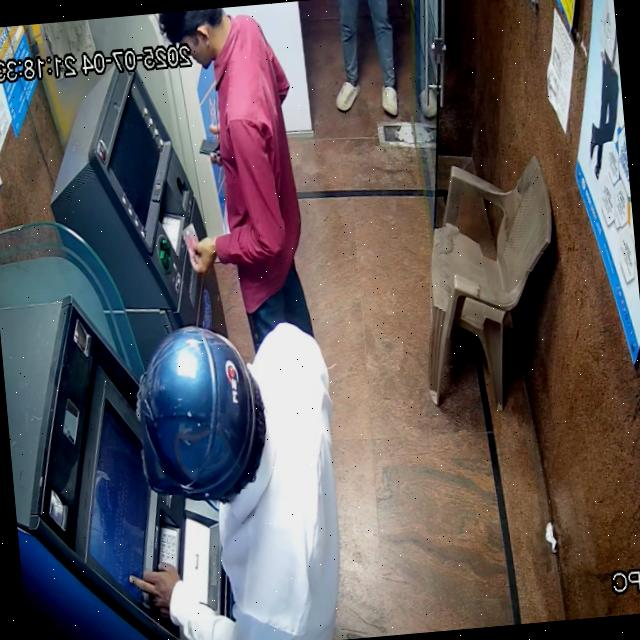helmet: (139, 324, 265, 506)
no_helmet: (159, 8, 231, 69)
